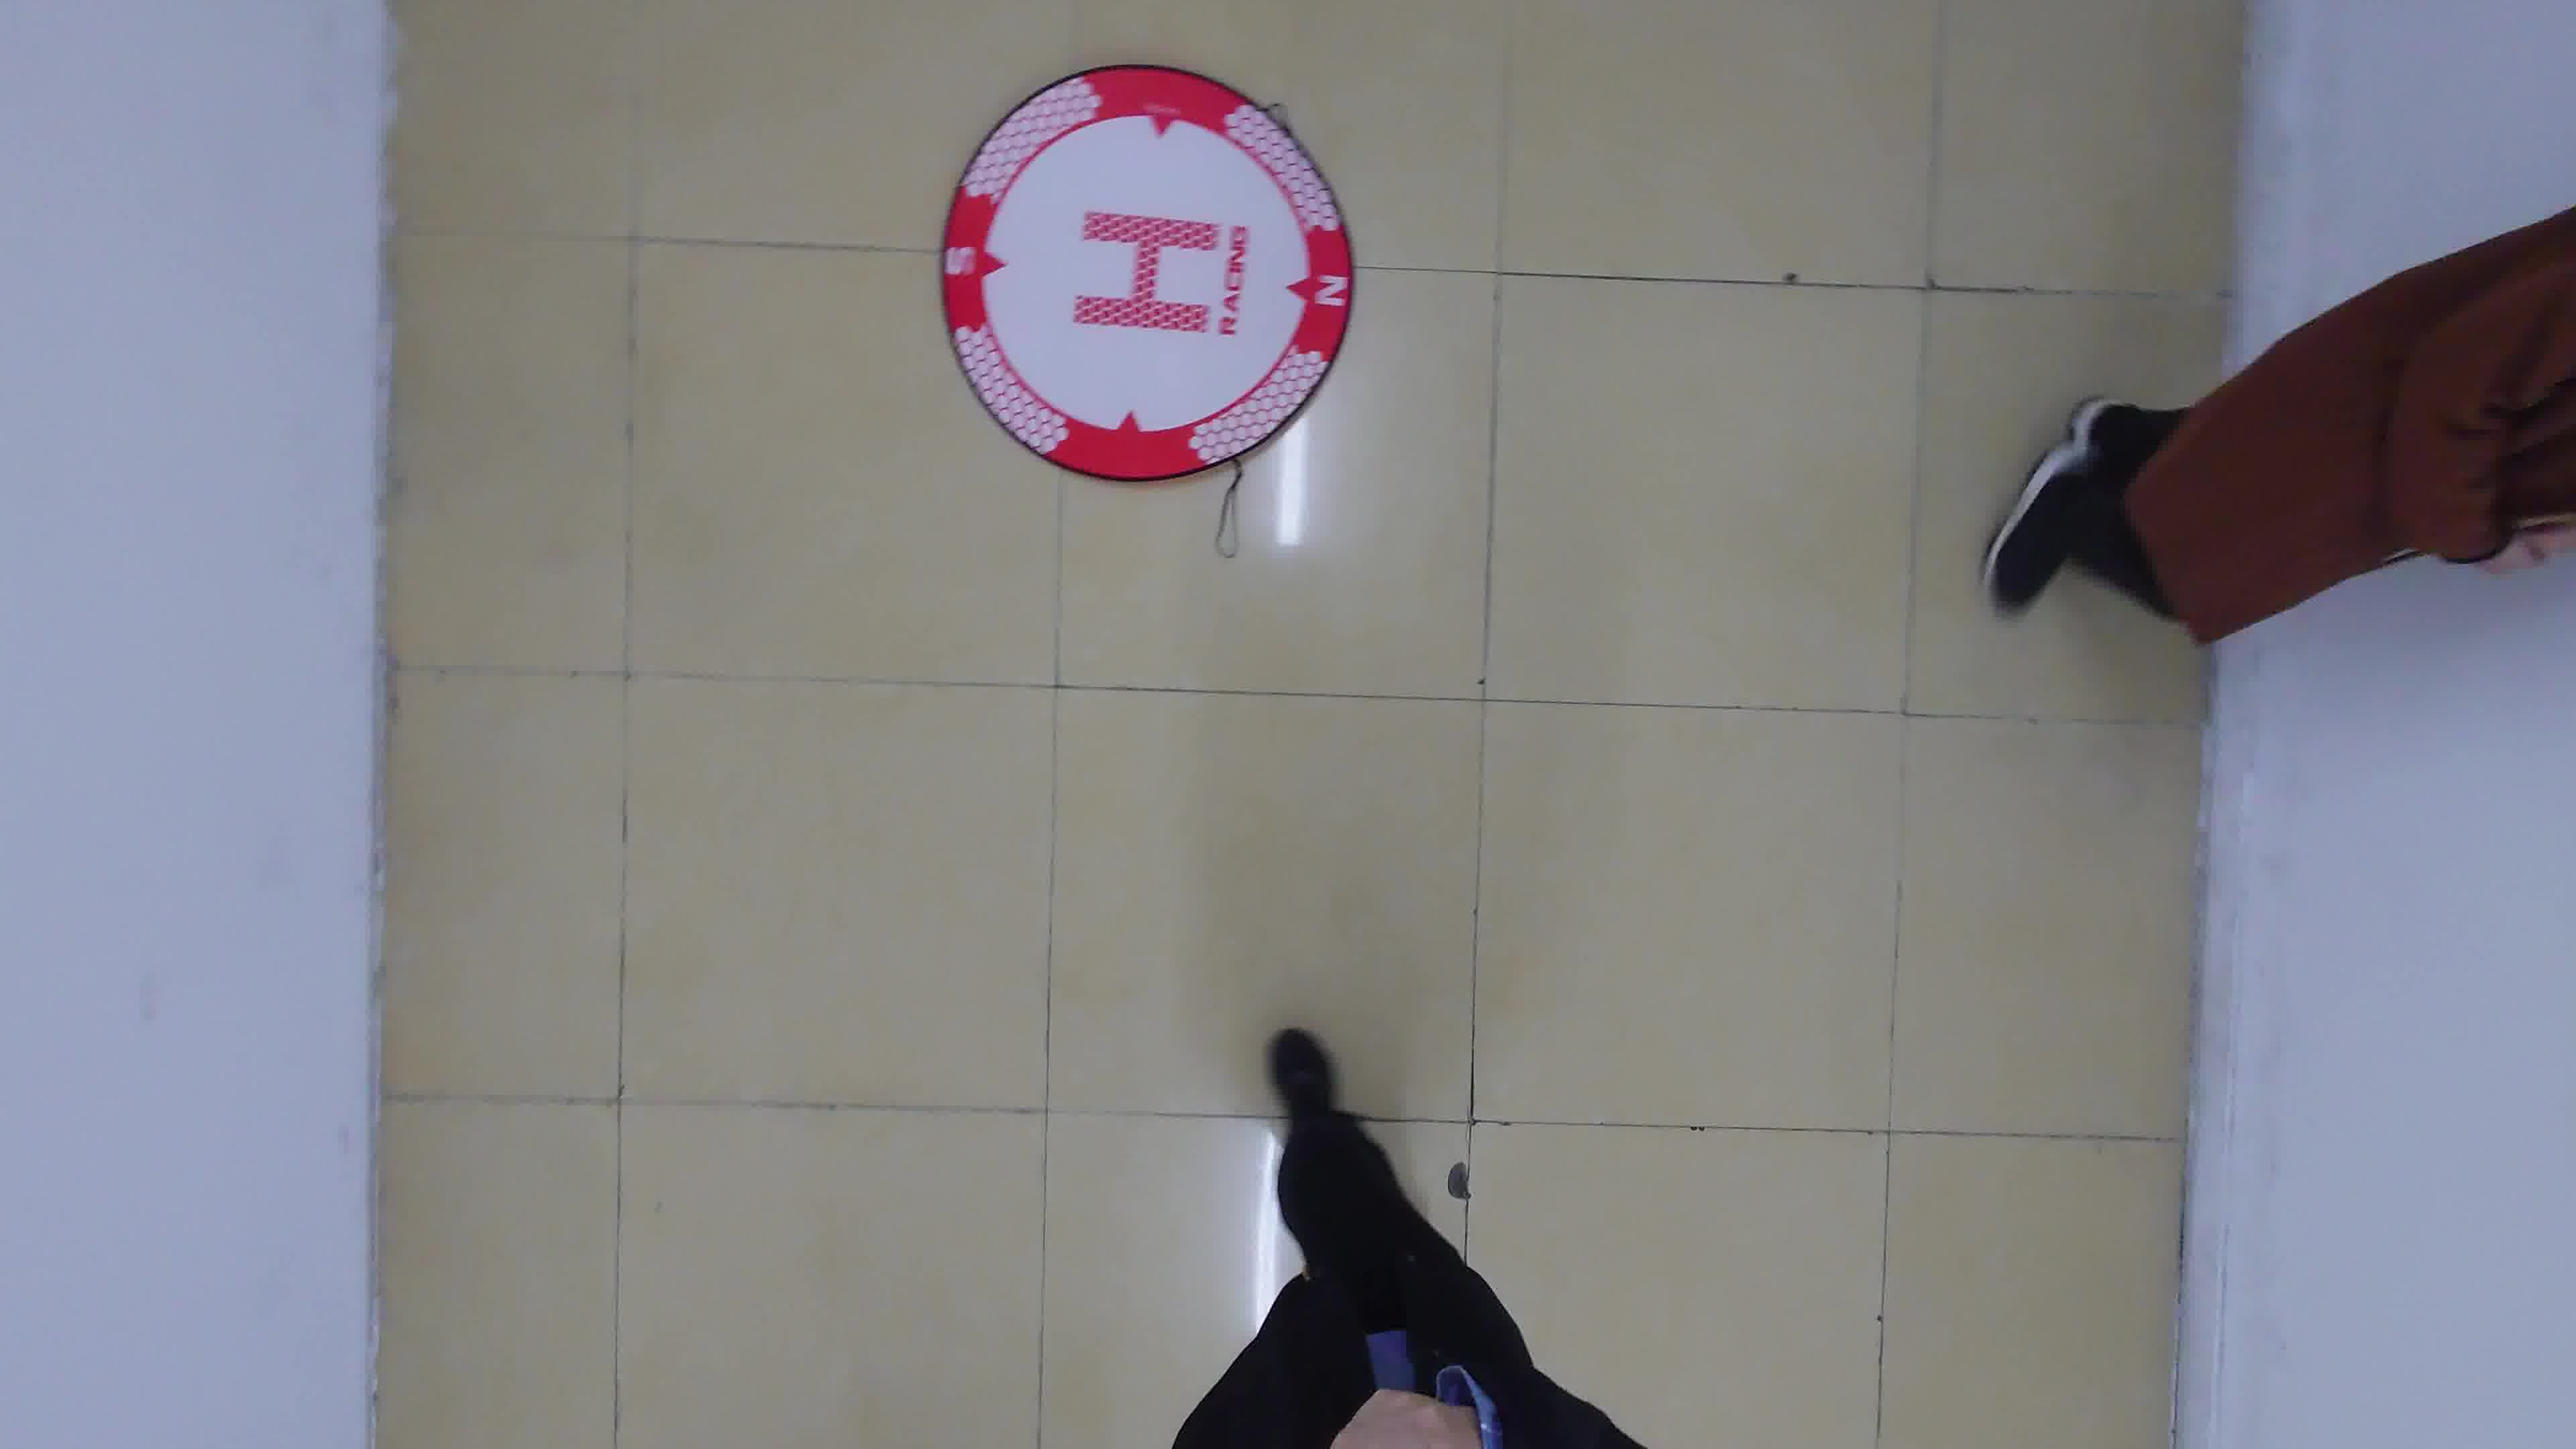H: (1072, 211, 1221, 333)
